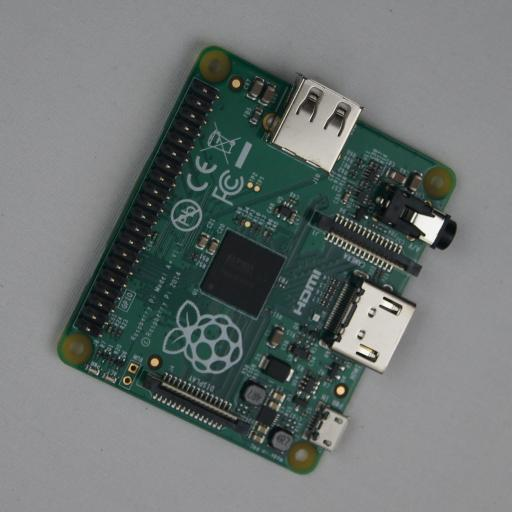Raspberry Pi A-: (57, 46, 457, 474)
